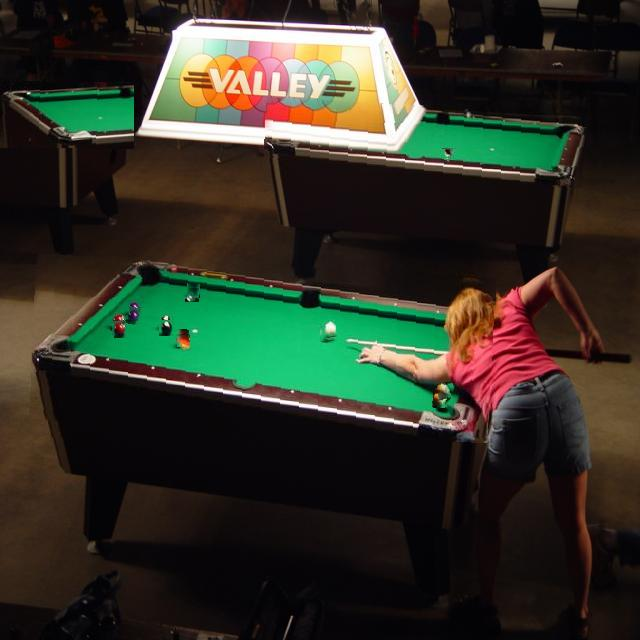Ball: (321, 320, 337, 338), (436, 382, 451, 400), (127, 307, 141, 324), (178, 334, 191, 352), (160, 320, 174, 336), (113, 321, 126, 338), (186, 288, 199, 302), (442, 148, 456, 158)
Billiard table: (32, 260, 496, 438), (264, 101, 585, 184), (0, 81, 134, 148)
